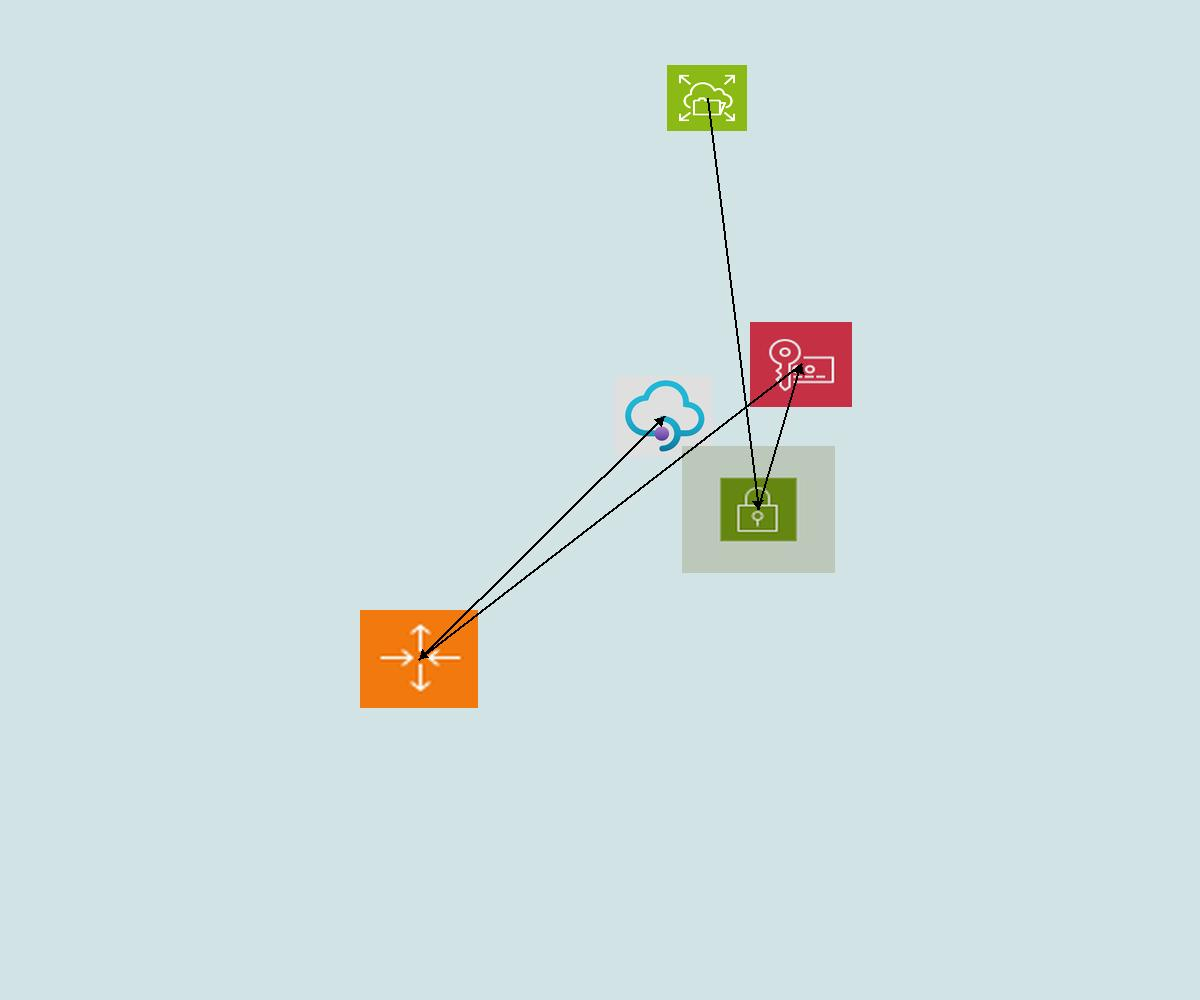AWS-EFS: (667, 65, 747, 131)
AWS-Key-Management-Service: (750, 322, 852, 407)
AWS-Public-subnet: (682, 446, 835, 573)
AWS-Scaling-group: (360, 610, 478, 708)
Azure_api_gateway: (615, 376, 713, 457)
